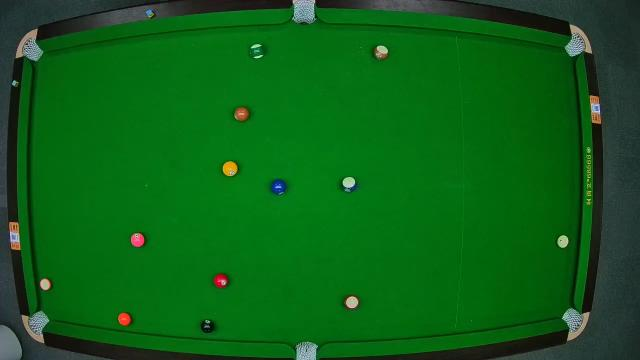bag1: (20, 40, 40, 61)
bag2: (293, 2, 317, 24)
bag3: (566, 33, 588, 58)
bag4: (28, 310, 48, 332)
bag5: (296, 340, 318, 360)
bag6: (563, 308, 583, 330)
ball0: (558, 236, 568, 249)
ball1: (222, 161, 238, 177)
ball10: (342, 175, 356, 192)
ball11: (344, 296, 360, 310)
ball12: (38, 278, 52, 292)
ball14: (248, 44, 264, 60)
ball15: (373, 44, 387, 60)
ball2: (270, 180, 286, 197)
ball3: (214, 274, 228, 288)
ball4: (131, 232, 145, 248)
ball5: (117, 312, 131, 328)
ball7: (234, 106, 250, 121)
ball8: (200, 319, 214, 333)
